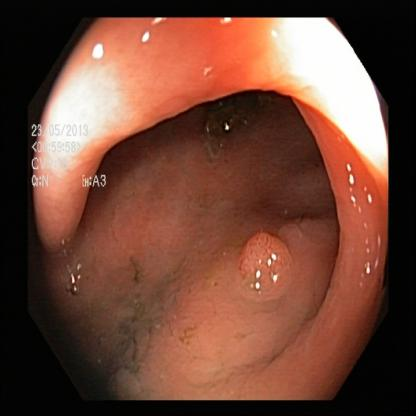Labels: (28, 117, 129, 199)
Polyps: (228, 220, 298, 306)
